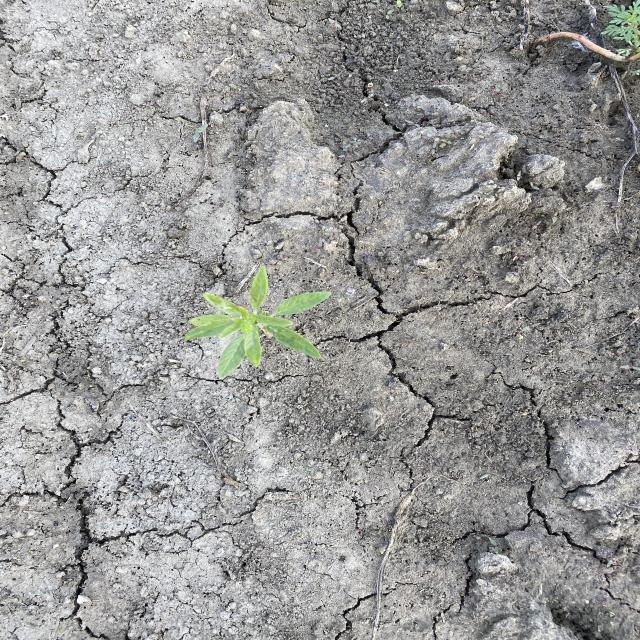Ragweed: (602, 2, 638, 47)
Waterhemp: (181, 263, 333, 382)
